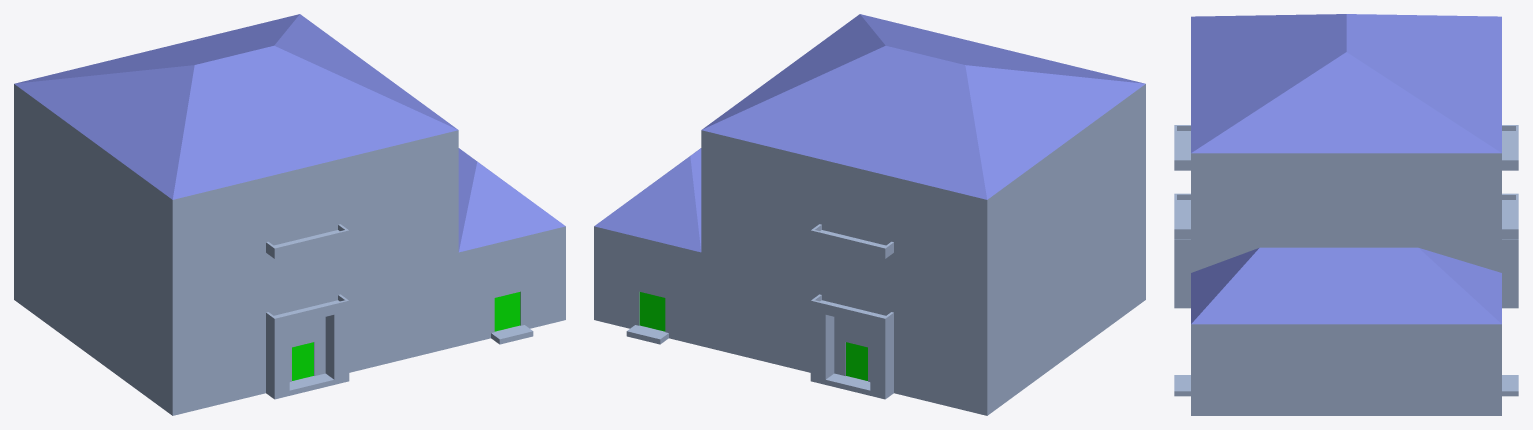
File: Dewatering_Building.glb
3 views of the same model, side by side, from view 1: azimuth 30°, elevation 25°; view 2: azimuth 150°, elevation 25°; view 3: azimuth 270°, elevation 25° (orthographic). The views are drawn at different scales.
Parts seen in each view (by area): view 1: Roof, Floor2, Floor1, Floor3; view 2: Roof, Floor2, Floor1, Floor3; view 3: Roof, Floor2, Floor1, Floor3.
Boxes of the visible parts, bbox=[...] form: Roof: bbox=[14, 14, 458, 204]; Floor2: bbox=[14, 148, 565, 345]; Floor1: bbox=[14, 230, 565, 415]; Floor3: bbox=[14, 89, 458, 275]; Roof: bbox=[701, 14, 1145, 204]; Floor2: bbox=[594, 148, 1145, 345]; Floor1: bbox=[594, 230, 1145, 415]; Floor3: bbox=[701, 89, 1145, 275]; Roof: bbox=[1191, 14, 1501, 158]; Floor2: bbox=[1174, 193, 1518, 347]; Floor1: bbox=[1174, 239, 1518, 415]; Floor3: bbox=[1174, 125, 1518, 226].
Size of the model in its own units: 31.62 by 20.6 by 24.5.
